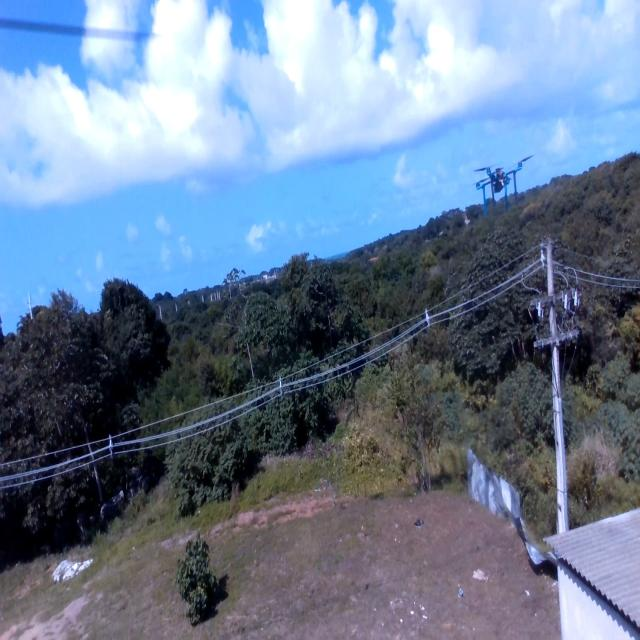-uav-: (469, 151, 537, 228)
